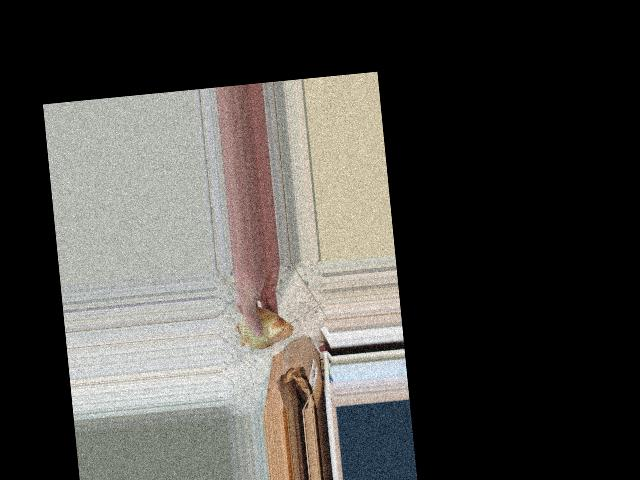onion: (235, 299, 297, 358)
